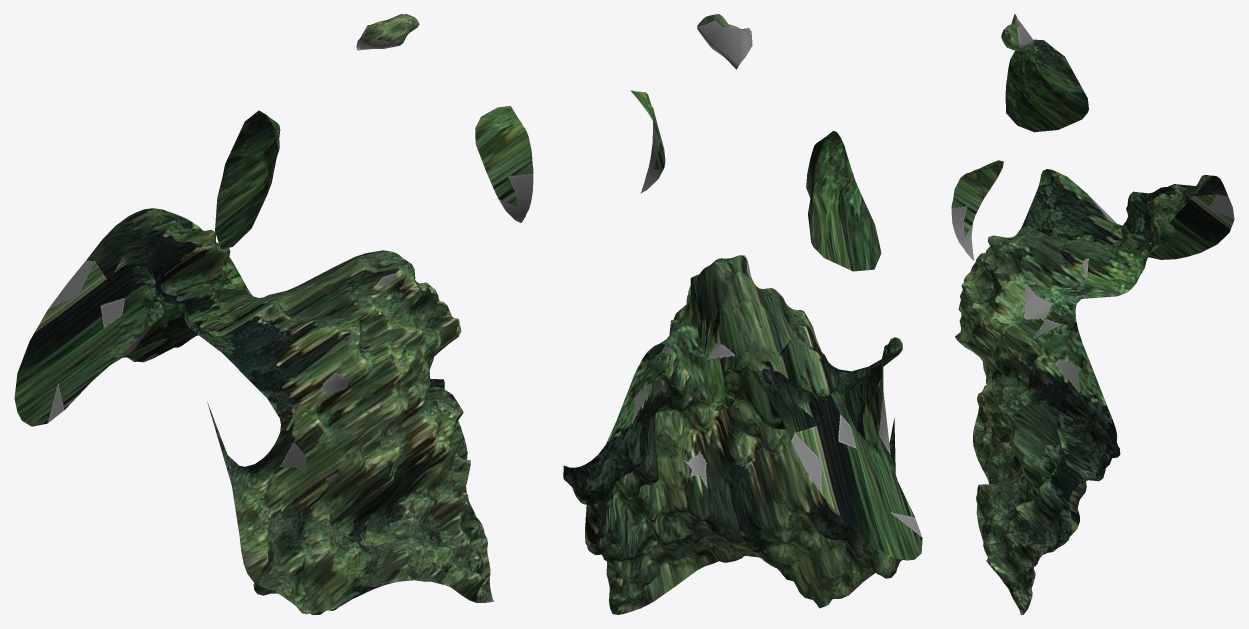
File: Tile_+003_+005.fbx
The picture shows the model from 3 angles, left to right: view 1: azimuth 30°, elevation 25°; view 2: azimuth 150°, elevation 25°; view 3: azimuth 270°, elevation 25°; orthographic projection. The views are drawn at different scales.
Visible parts, largest first — view 1: DefaultName; view 2: DefaultName; view 3: DefaultName.
Part boxes in pixels (x1,y1,x2,y2): DefaultName: [14, 14, 533, 614]; DefaultName: [563, 14, 922, 614]; DefaultName: [951, 14, 1234, 614].
Bounding box in the file's own units: 13.82 × 21.05 × 9.85.
